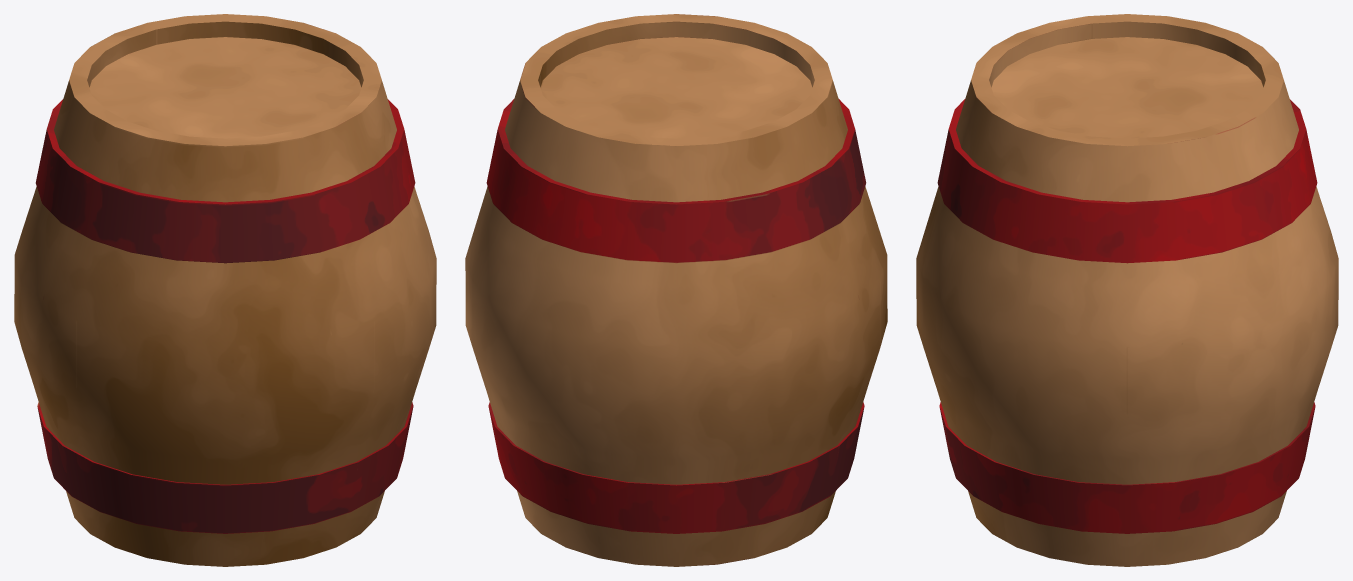
File: fici.fbx
3 renders of one model, left to right at view 1: azimuth 30°, elevation 25°; view 2: azimuth 150°, elevation 25°; view 3: azimuth 270°, elevation 25°, orthographic.
Visible parts, largest first — view 1: Cylinder.012; view 2: Cylinder.012; view 3: Cylinder.012.
Part boxes in pixels (x1=…): Cylinder.012: x1=14, y1=14, x2=436, y2=566; Cylinder.012: x1=465, y1=14, x2=887, y2=566; Cylinder.012: x1=916, y1=14, x2=1338, y2=566.
Size of the model in its own units: 1.13 by 1.24 by 1.13.
Materials: 1 (1 with a texture image).
